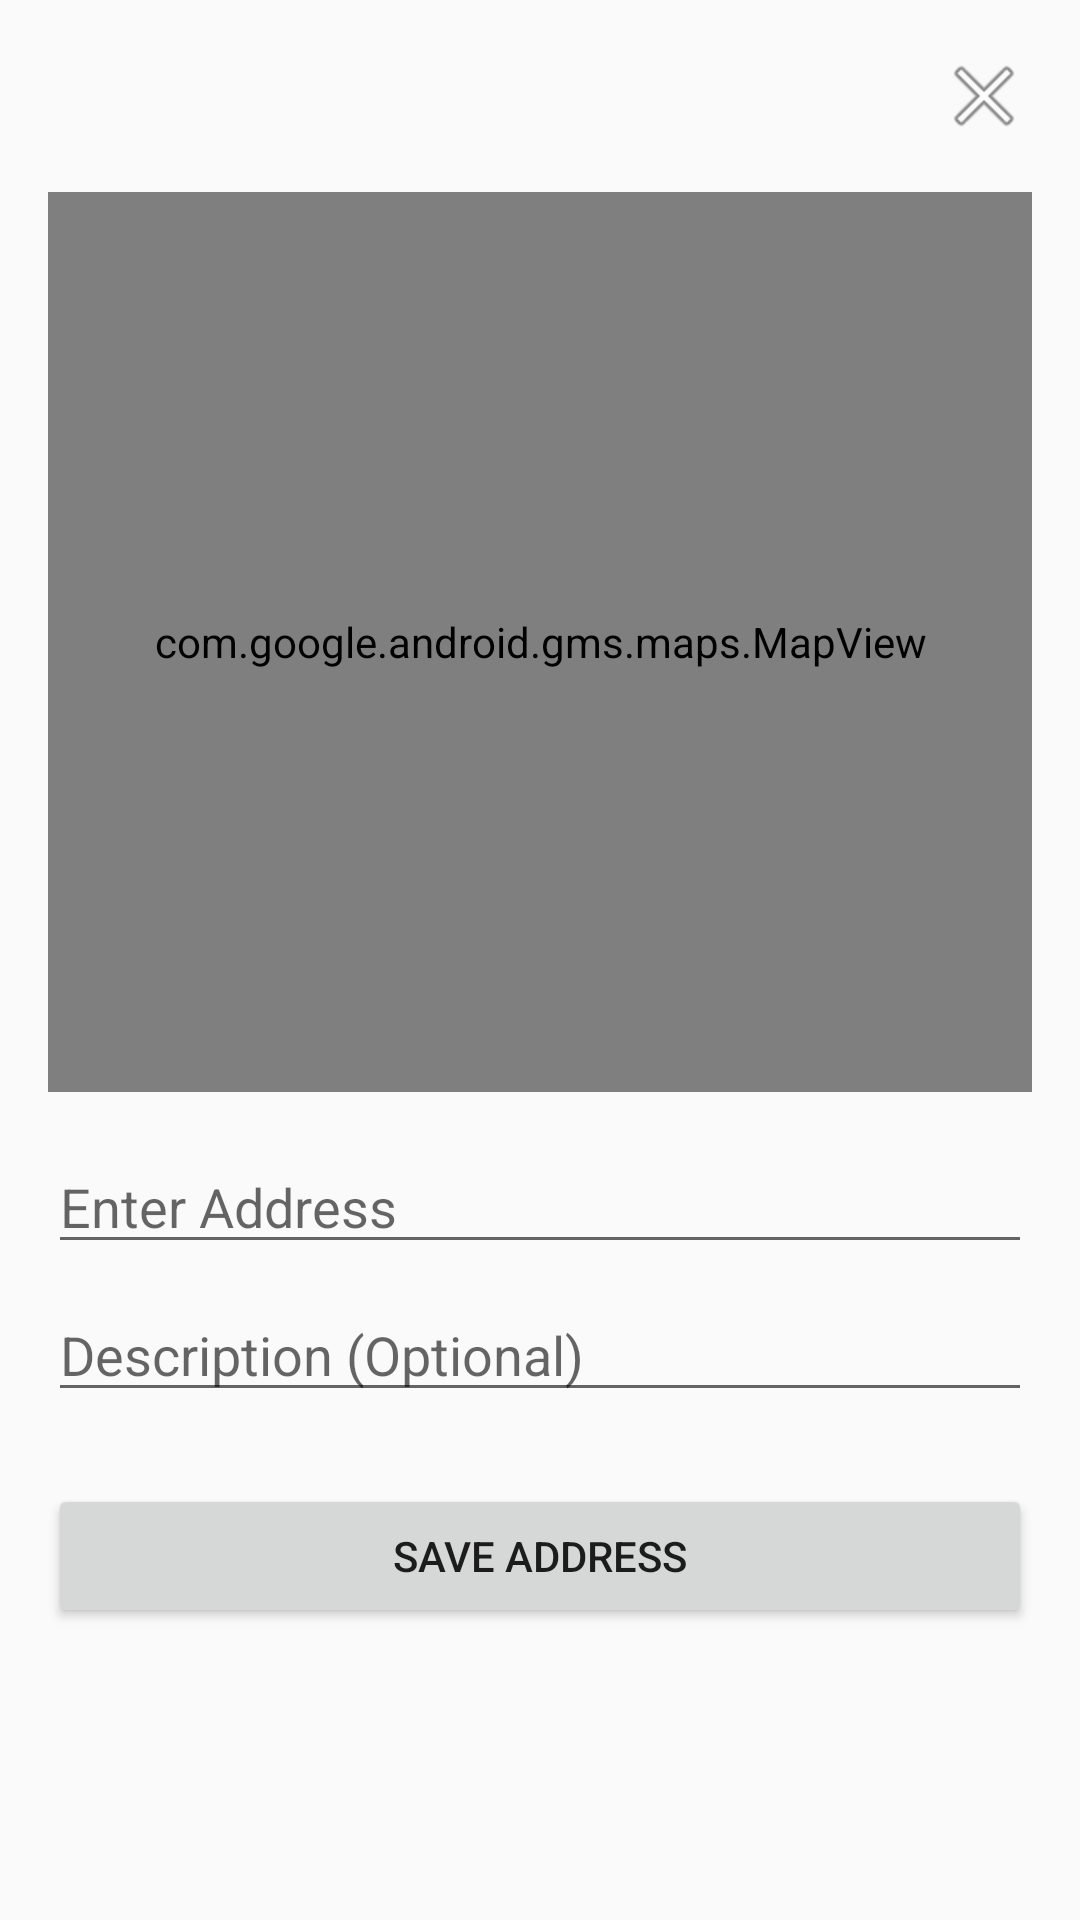

Locate icon controls on the screen. Image size 1080*1920, boxes as (x1, y1, x2, y2).
Close: (954, 66, 1014, 126)
